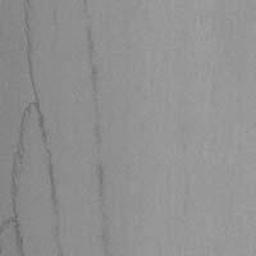Inclusion: (0, 0, 59, 256), (87, 27, 99, 92), (55, 224, 65, 256), (101, 228, 110, 256), (99, 164, 105, 197), (82, 0, 90, 15), (96, 125, 100, 143)
